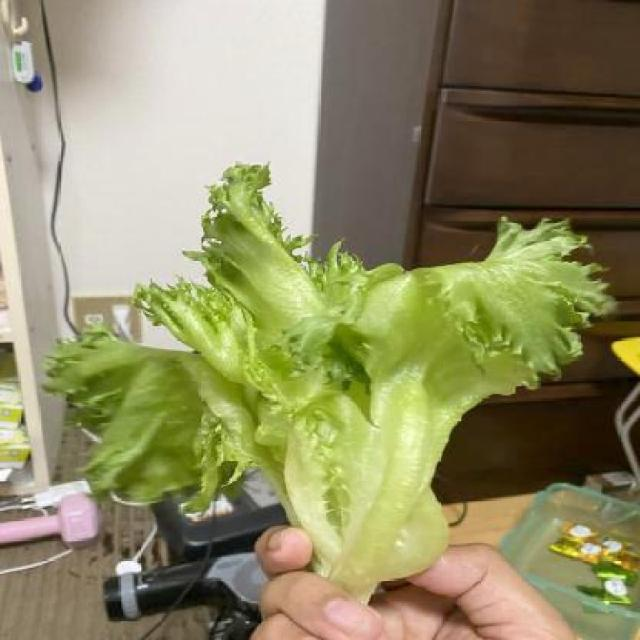Lettuce: (49, 157, 614, 576)
